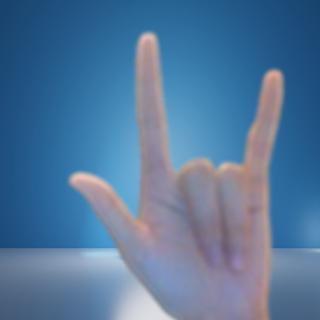ILY: (59, 25, 296, 320)
